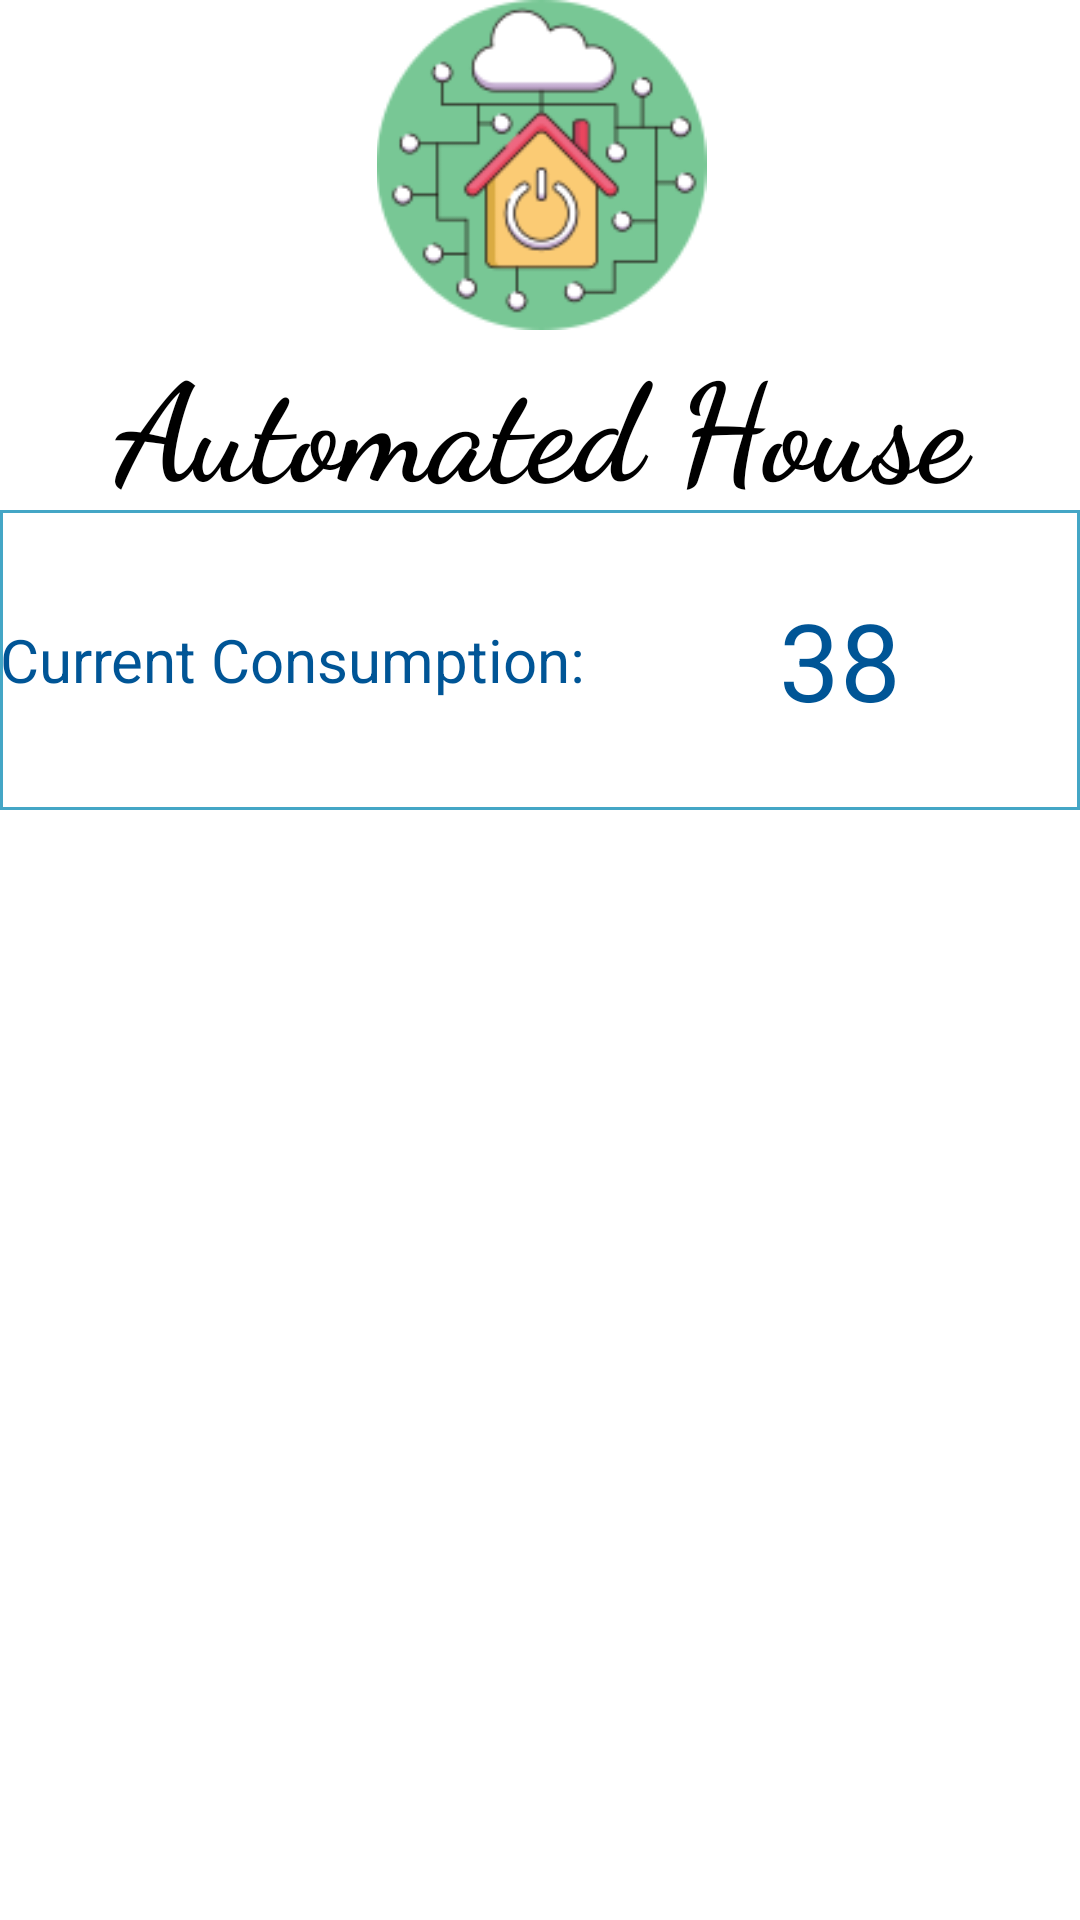

Icons on this 1080 × 1920 Android screen, each with its box as bbox=[x1, y1, x2, y2]:
smarthome: bbox=[377, 0, 707, 330]
